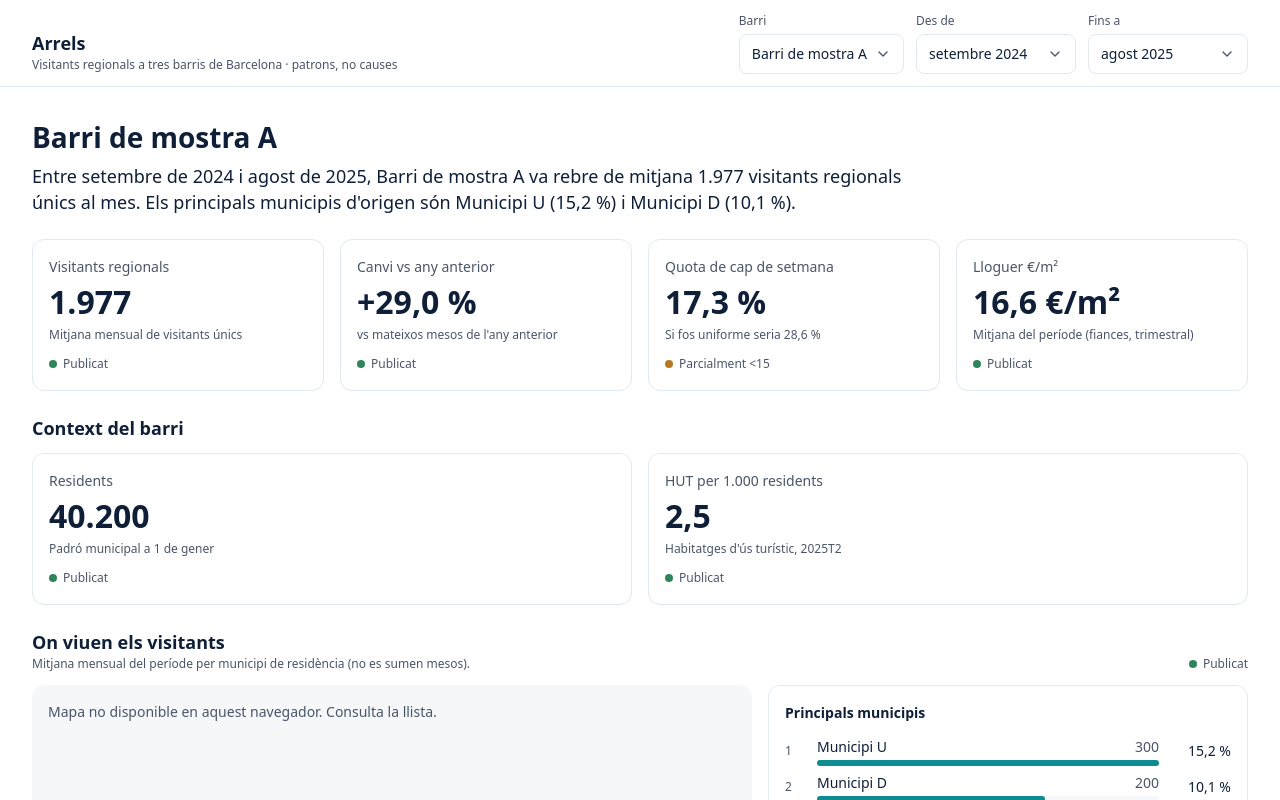
Scenario: App › switches barri
Expected: the heading "Barri de mostra A" is shown, [32, 118, 277, 156]
Step 1. Click the dropdown labelled "Barri" → (821, 54), box [739, 34, 904, 74]
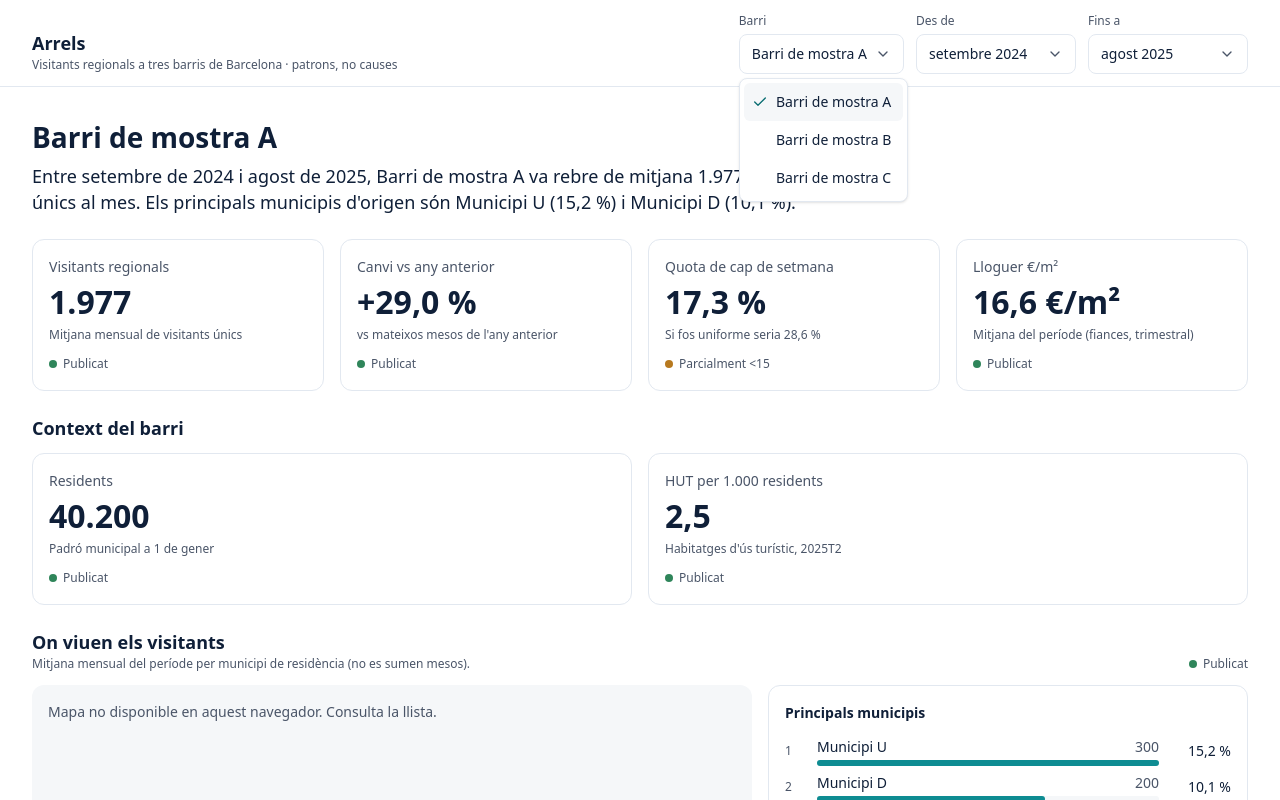
Step 2. Click the option "Barri de mostra B" → (834, 140), box [776, 130, 891, 149]
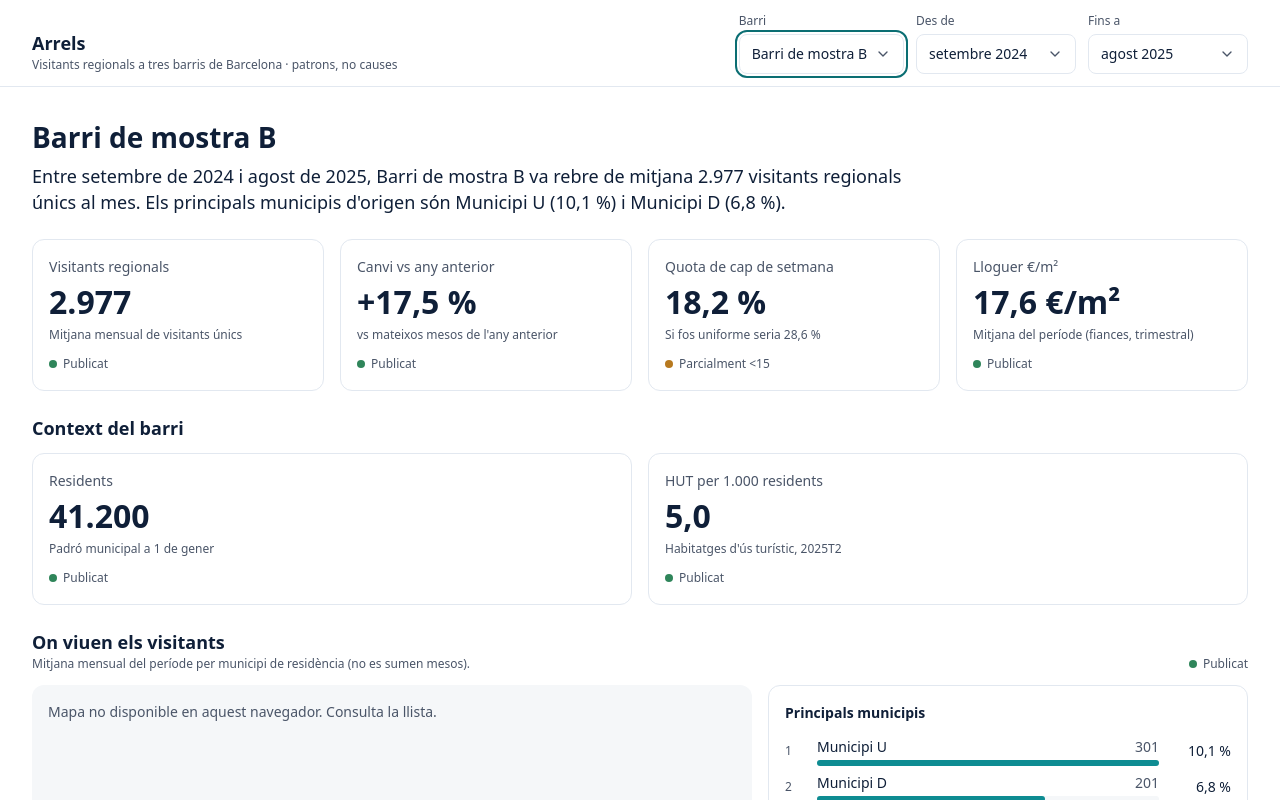
Now the heading "Barri de mostra B" is shown, box [32, 118, 277, 156]
